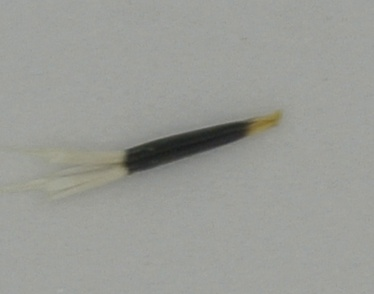เมล็ดดีติดกัน: (4, 102, 285, 208)
